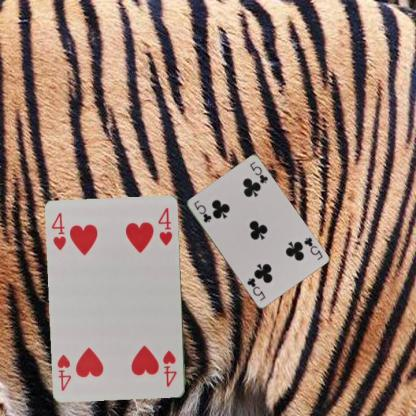4h: (49, 210, 68, 252), (160, 348, 179, 388)
5c: (301, 235, 324, 261), (191, 198, 213, 224)
